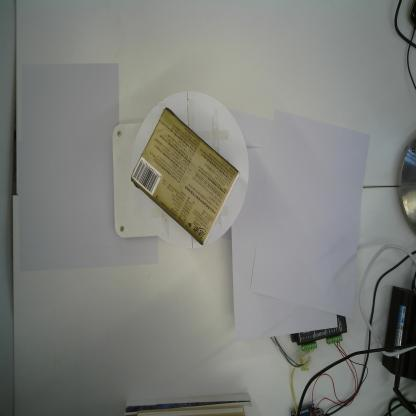Tissue: (130, 106, 241, 246)
